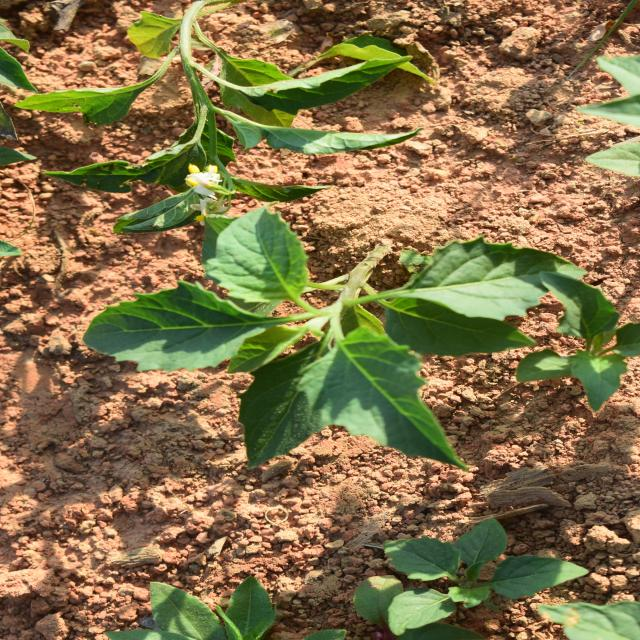Black_nightshade: (201, 105, 429, 532)
